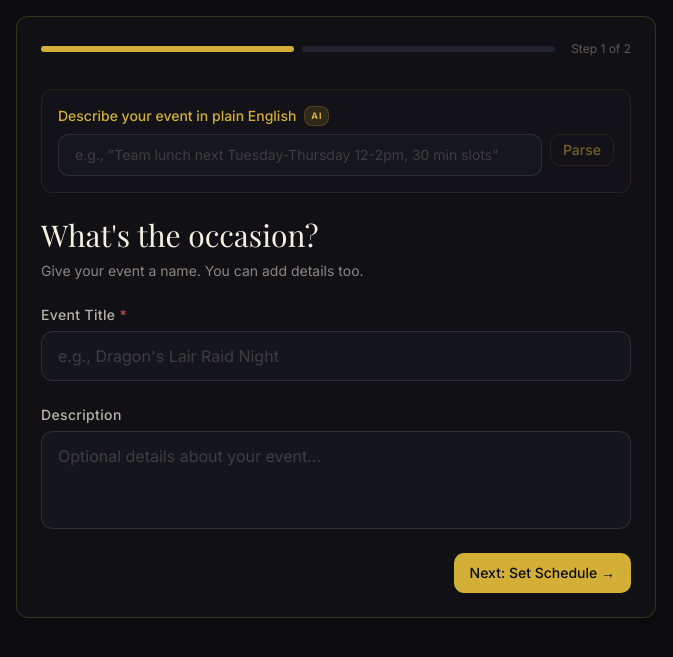
Test: CreateEventPage › validation: shows error when title is empty
The width and height of the screenshot is (673, 657).
Step 1. Click the button "Next: Set Schedule →" → click(542, 573), box [454,553,631,593]
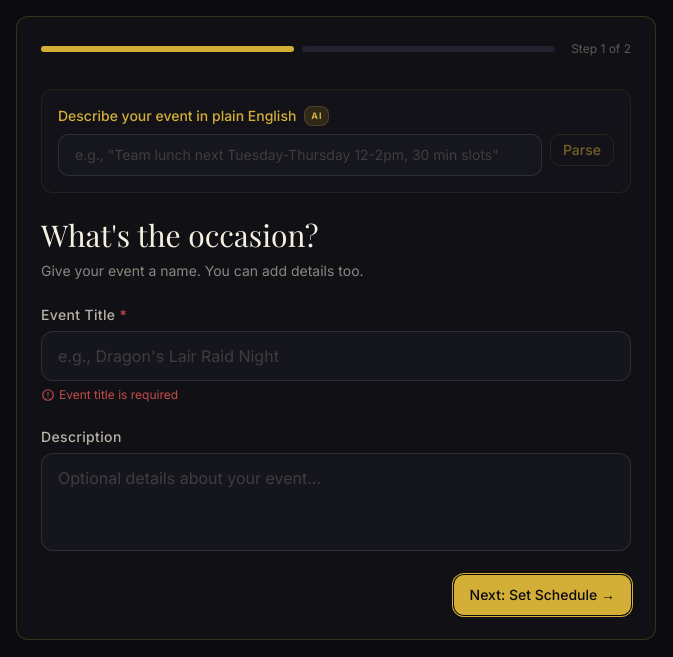
Expected: the text "Event title is required" is shown, [41,387,178,402]
